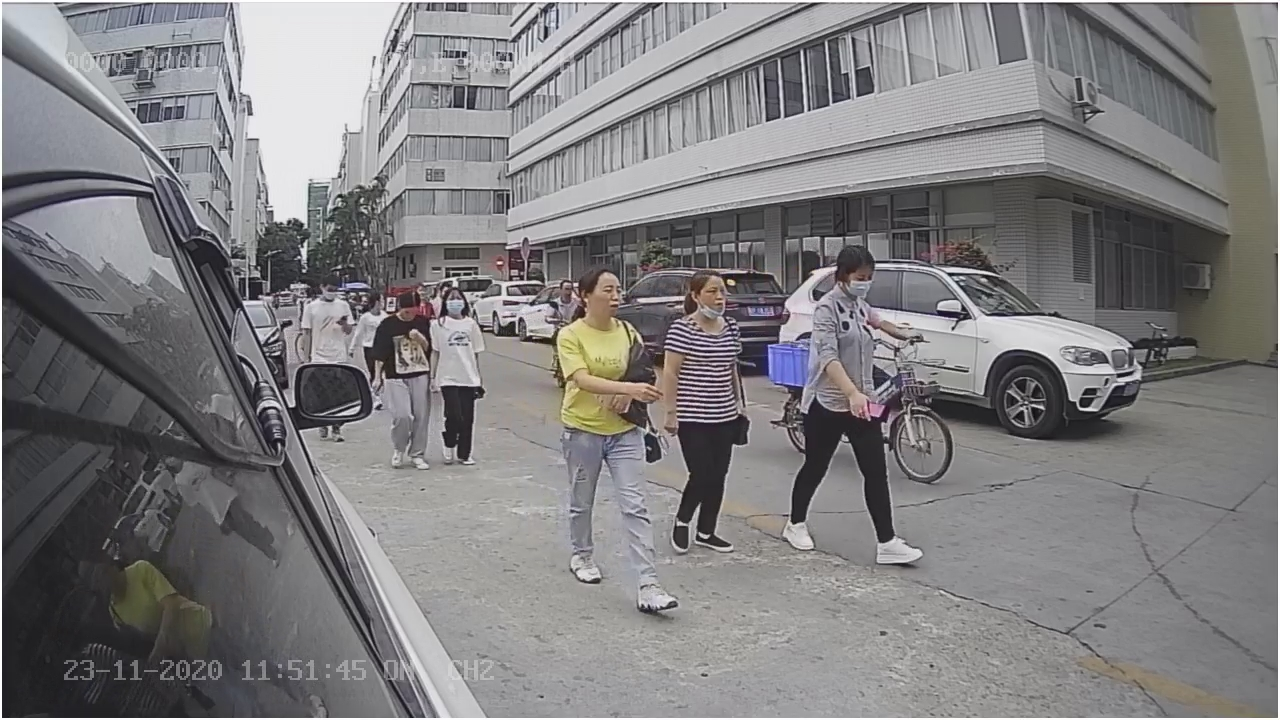person: (778, 239, 929, 569), (550, 261, 683, 611), (425, 285, 500, 462)
